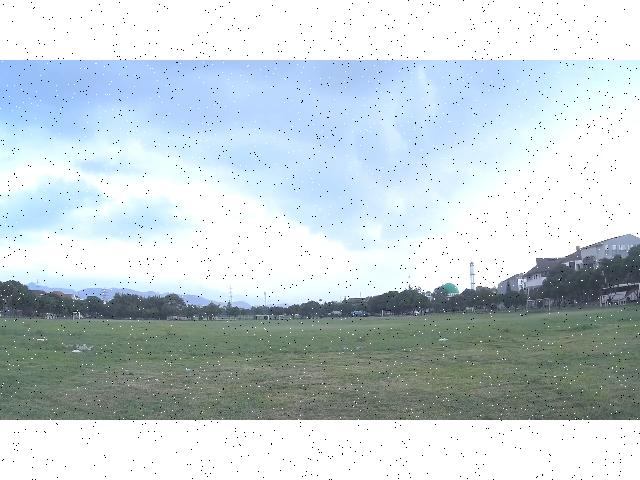Anti-Drone: (401, 265, 423, 289)
